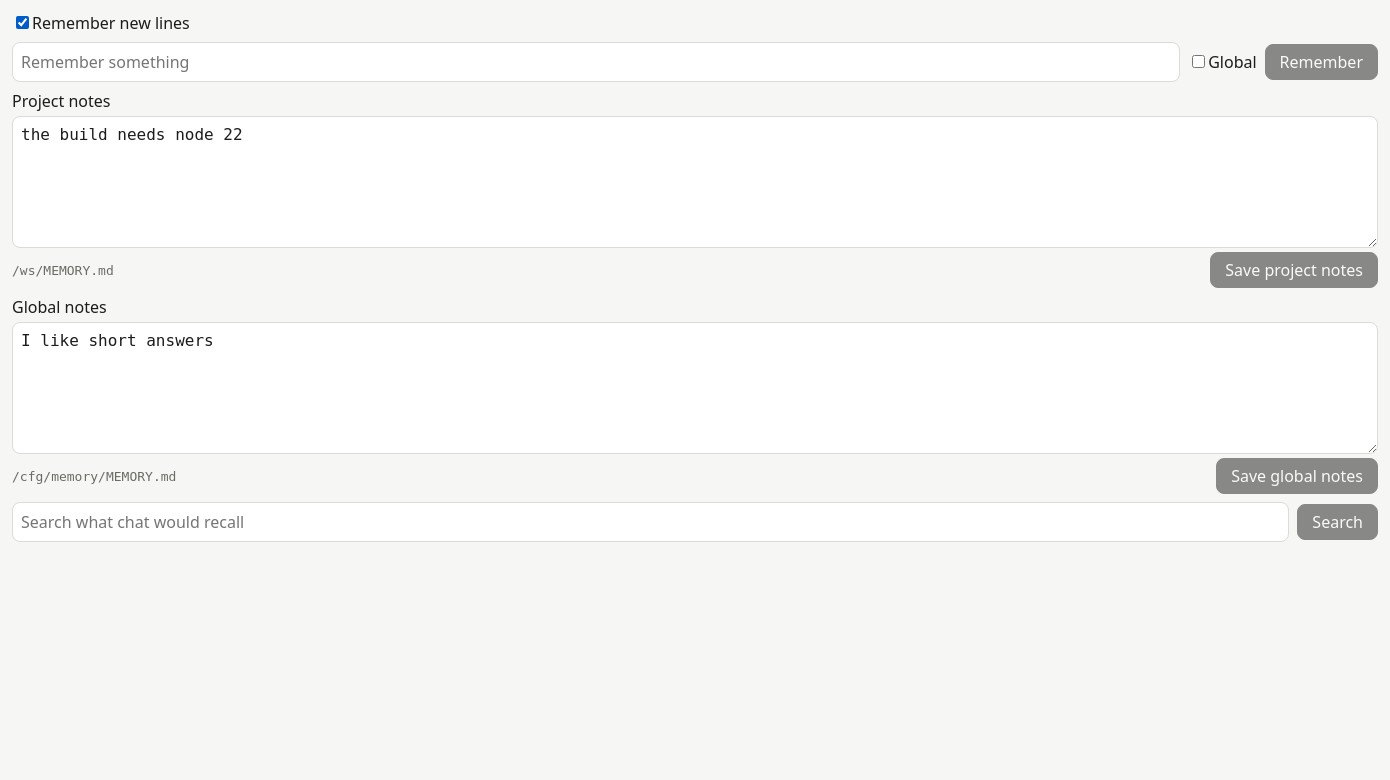
Memory › a save refused because chat changed the file shows the new text
Type "mine" into the text box labelled "Global notes".
click(695, 388); type("mine")  # box 12,322 -> 1378,454
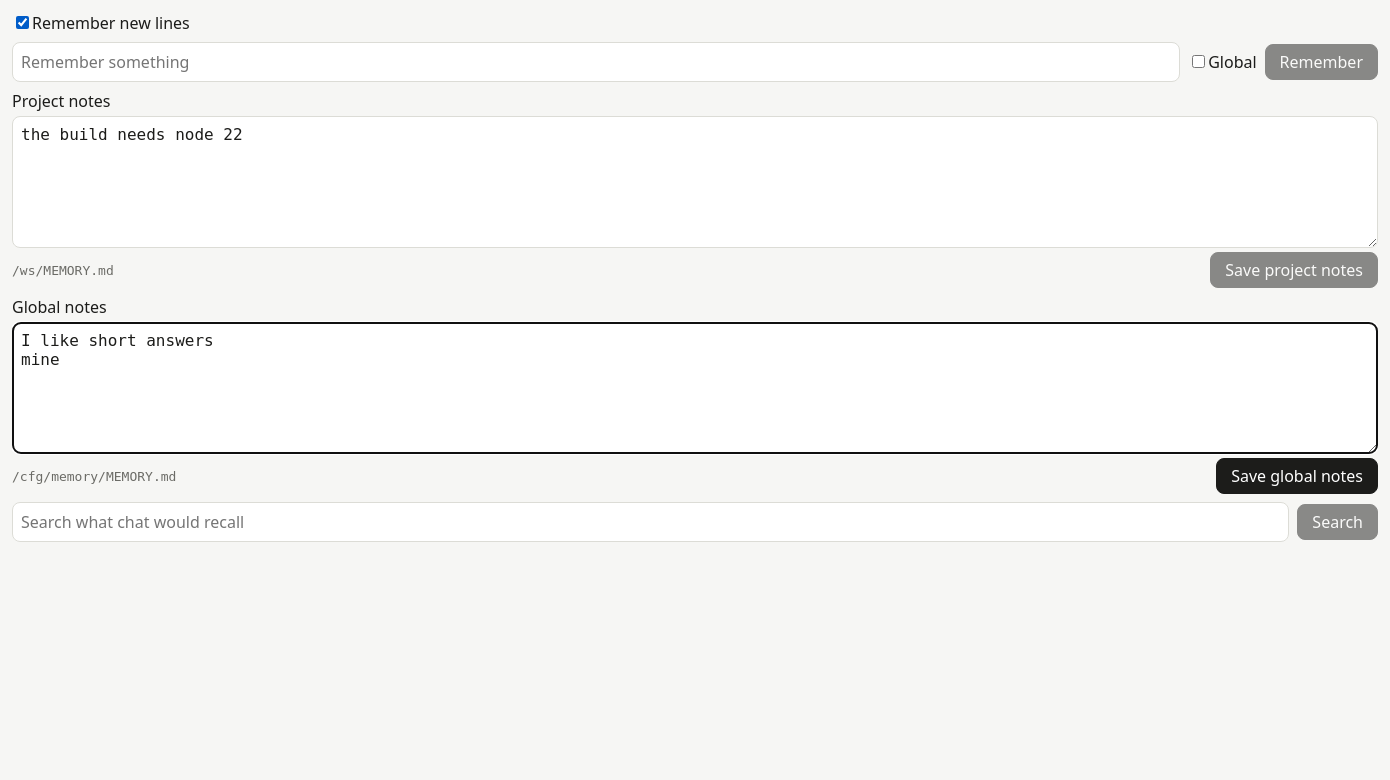
Click the button "Save global notes".
click(1297, 476)  # box 1216,458 -> 1378,494
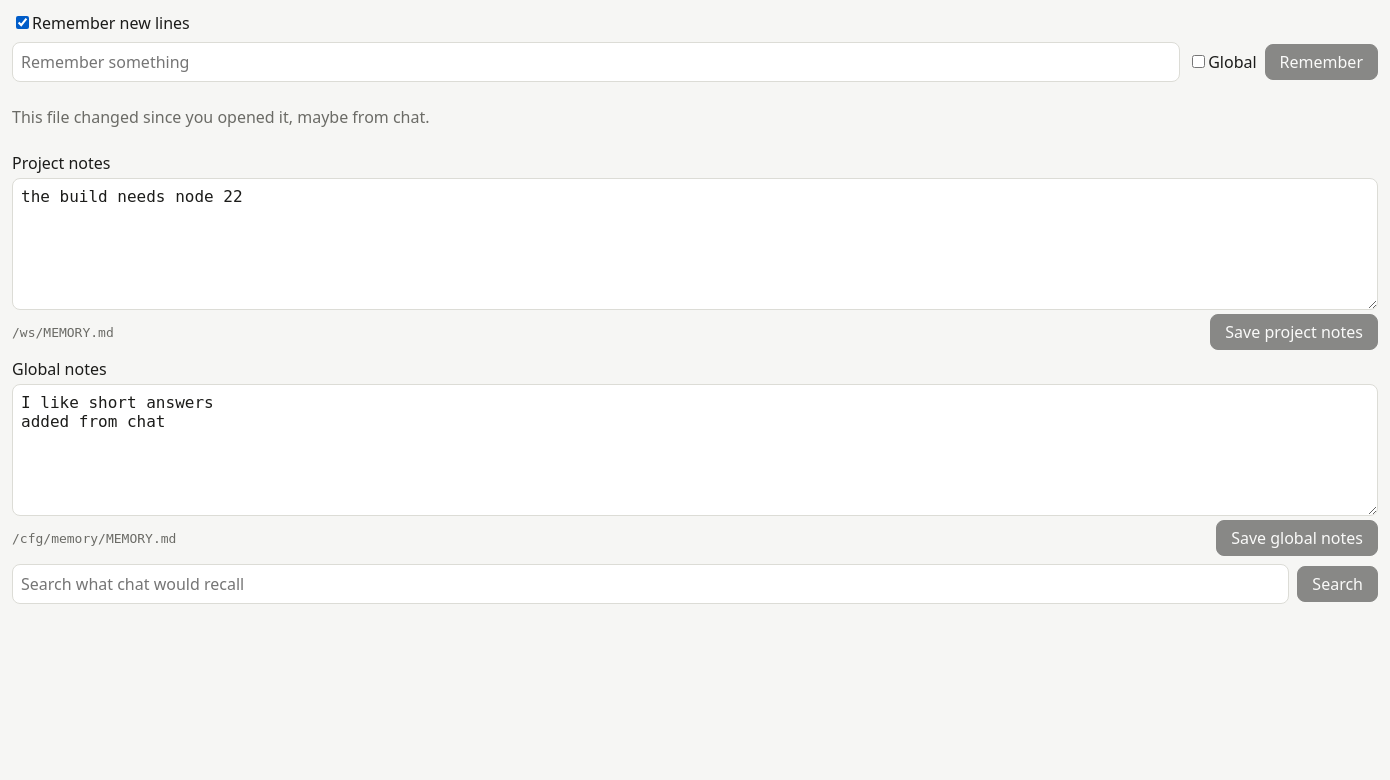
Result: the text "This file changed since you opened it, maybe from chat." is shown at 12,106 -> 430,128
